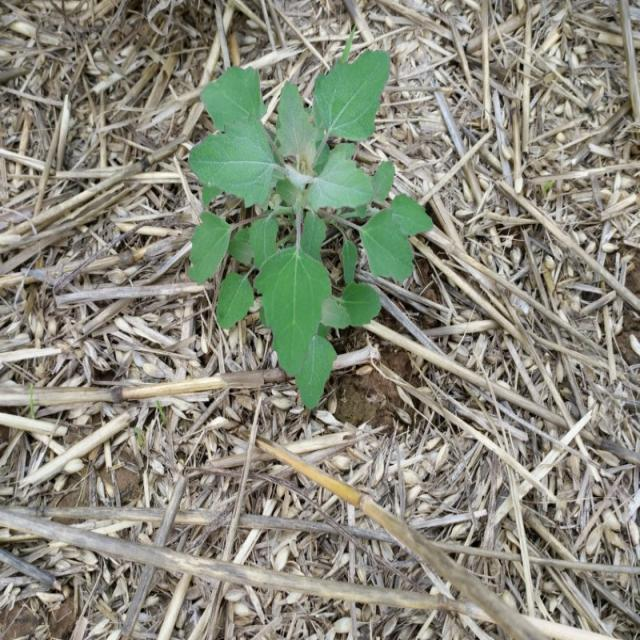goosefoots: (167, 32, 437, 397)
